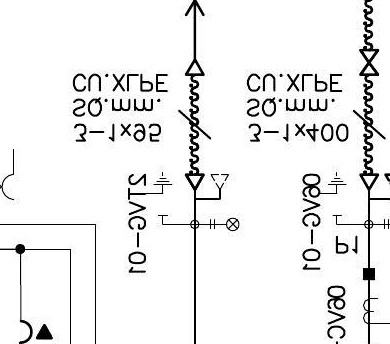22_gs: (319, 171, 347, 217), (145, 171, 172, 217)
22_ll: (209, 217, 240, 232)
terminator_single: (184, 58, 207, 77)
terminator_splicing_kits: (358, 48, 380, 76)
terminator_w_future: (184, 173, 231, 202)
